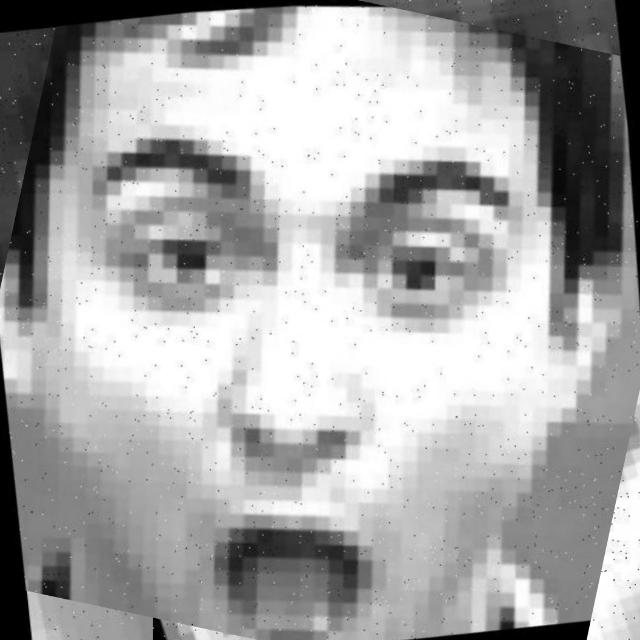Surprised: (17, 66, 640, 640)
